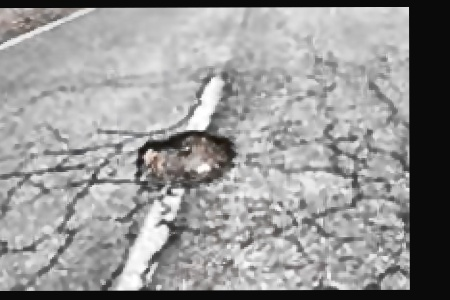pothole: (132, 128, 237, 193)
